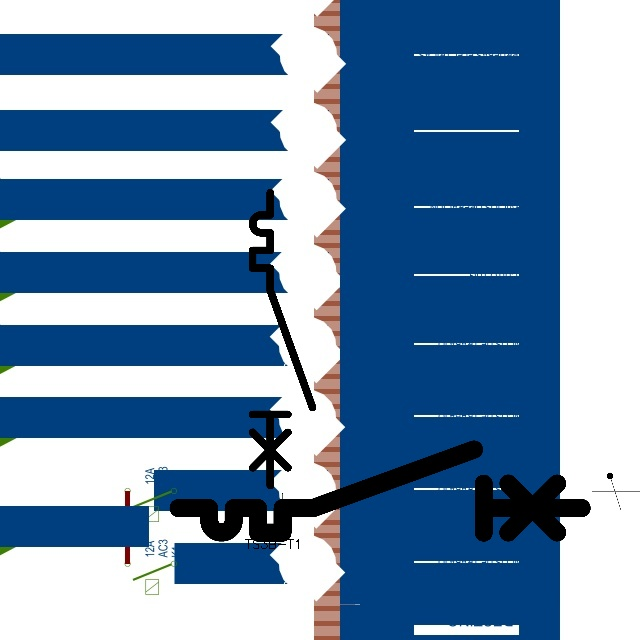interruptor_termomagnetico: (168, 439, 592, 543), (245, 185, 320, 493)
